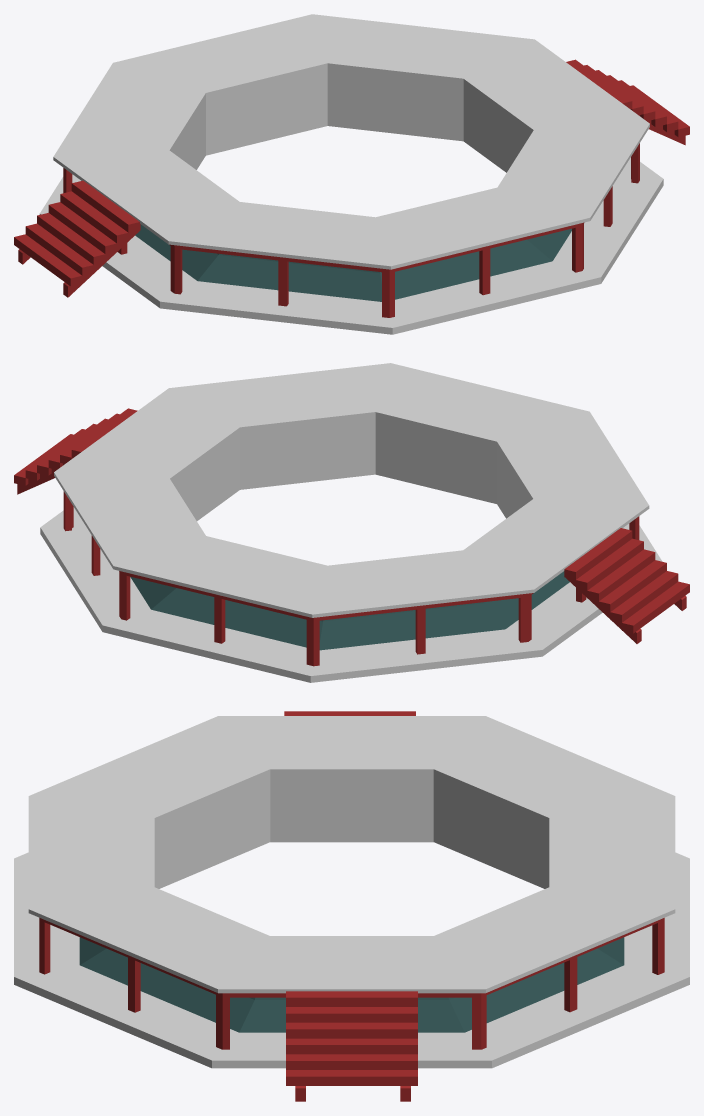
The model's file is Asian_Building_Temple_Pagoda_Base_01.FBX.
The picture shows the model from 3 angles, top to bottom: view 1: azimuth 30°, elevation 25°; view 2: azimuth 150°, elevation 25°; view 3: azimuth 270°, elevation 25°; orthographic projection. The views are drawn at different scales.
Parts seen in each view (by area): view 1: Asian_Building_Temple_Pagoda_Base_01; view 2: Asian_Building_Temple_Pagoda_Base_01; view 3: Asian_Building_Temple_Pagoda_Base_01.
Boxes of the visible parts, <box> form: Asian_Building_Temple_Pagoda_Base_01: <box>14,14,689,334</box>; Asian_Building_Temple_Pagoda_Base_01: <box>14,363,689,682</box>; Asian_Building_Temple_Pagoda_Base_01: <box>14,711,689,1101</box>.
Bounding box in the file's own units: 36101 × 3502 × 29308.
